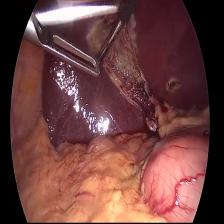Grasper: (22, 1, 123, 84), (97, 22, 124, 65)
